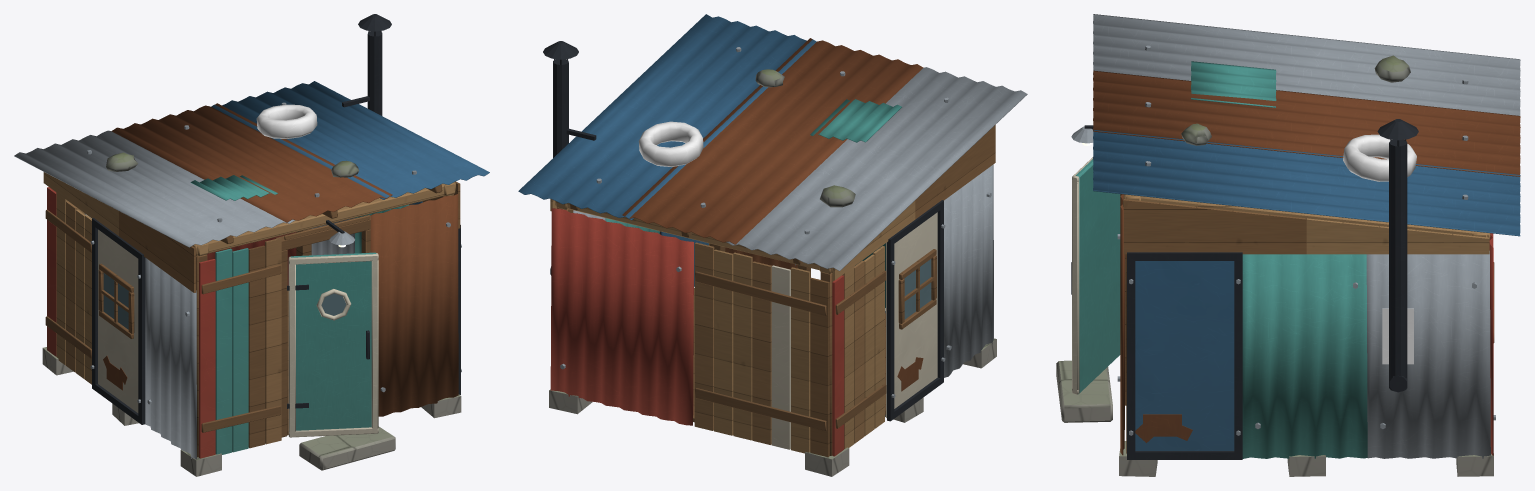
File: scrap_hut.glb
The picture shows the model from 3 angles, left to right: view 1: azimuth 30°, elevation 25°; view 2: azimuth 150°, elevation 25°; view 3: azimuth 270°, elevation 25°; orthographic projection. The views are drawn at different scales.
Visible parts, largest first — view 1: scrap_hut; view 2: scrap_hut; view 3: scrap_hut.
Boxes of the visible parts, x1,y1,x2,y2 form: scrap_hut: (14,14,489,476); scrap_hut: (518,14,1027,476); scrap_hut: (1056,14,1520,476).
Bounding box in the file's own units: 3.75 × 3.37 × 3.8.
Materials: 31 (30 with a texture image).
